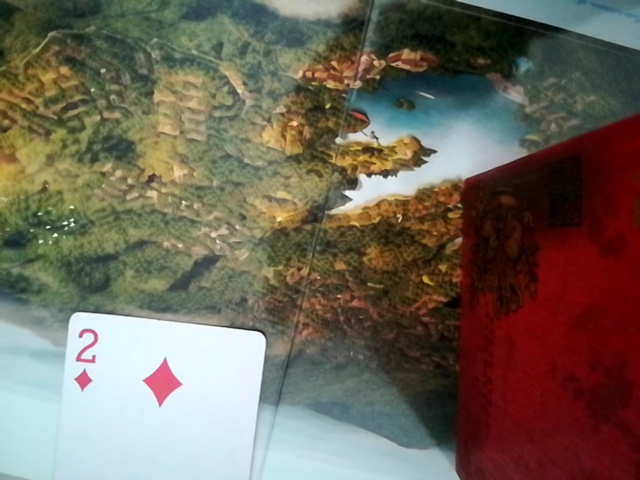fk 2: (47, 313, 267, 480)
